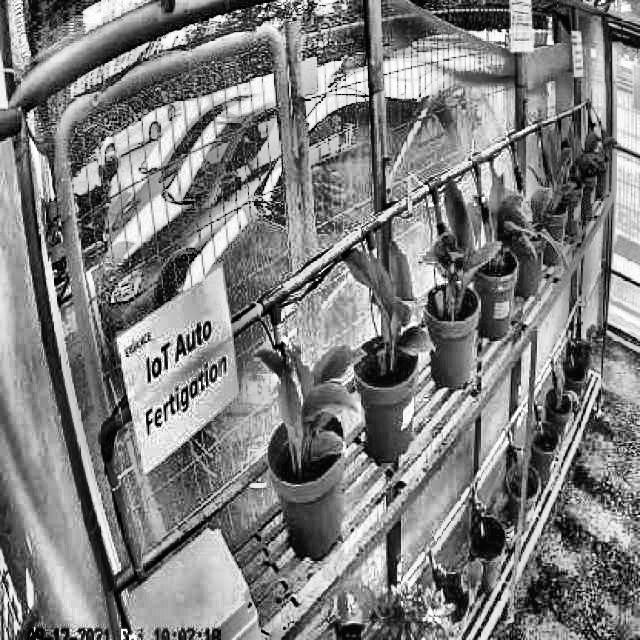plants: (252, 342, 368, 456), (339, 242, 436, 360), (420, 178, 488, 311), (485, 163, 533, 272)
